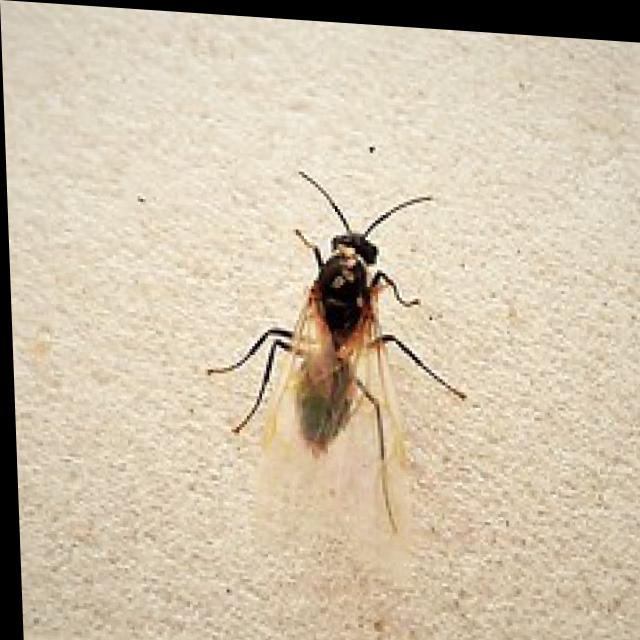Guepe: (189, 127, 493, 547)
